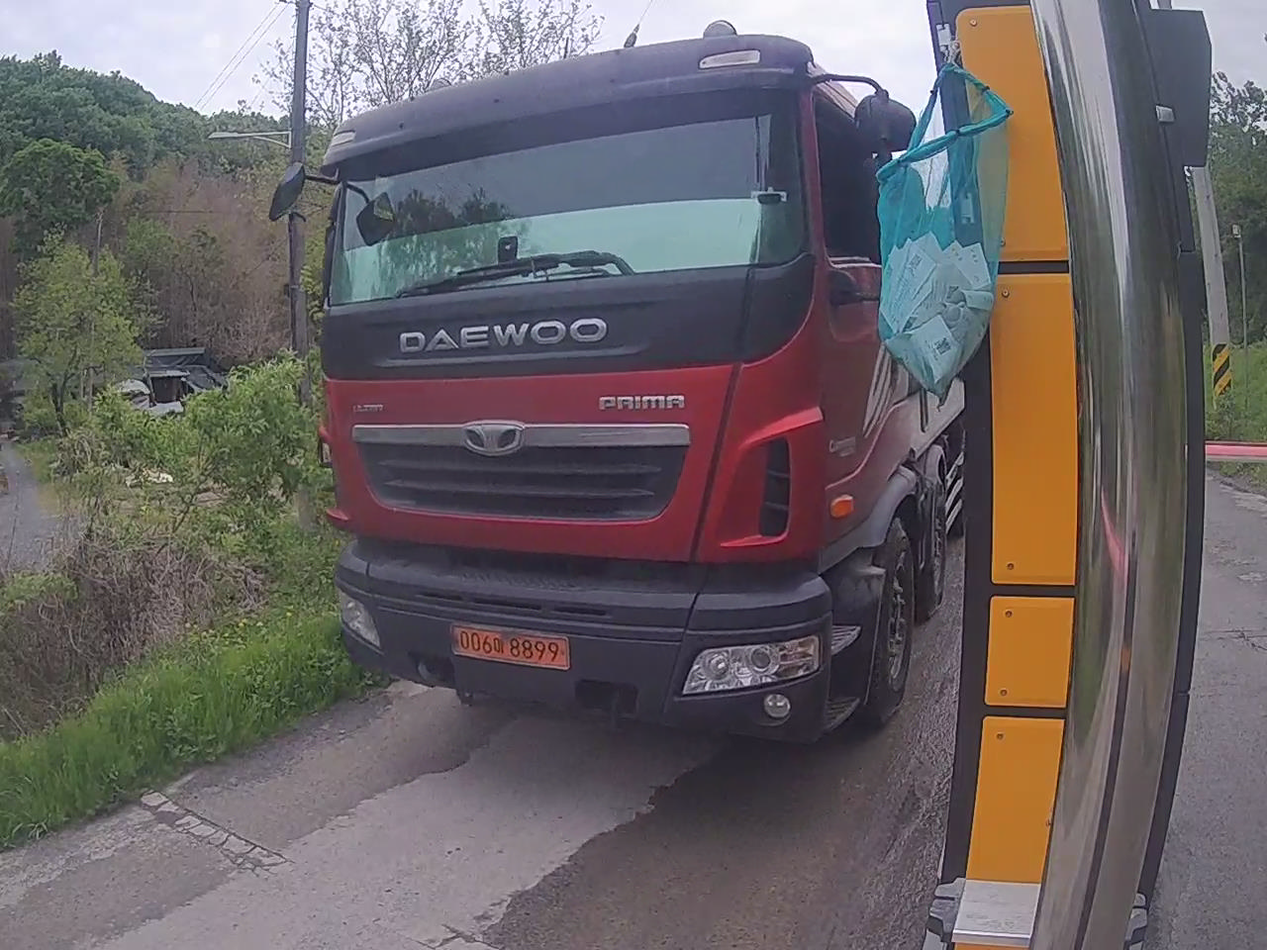license_plate: (453, 625, 569, 670)
truck: (272, 24, 963, 740)
